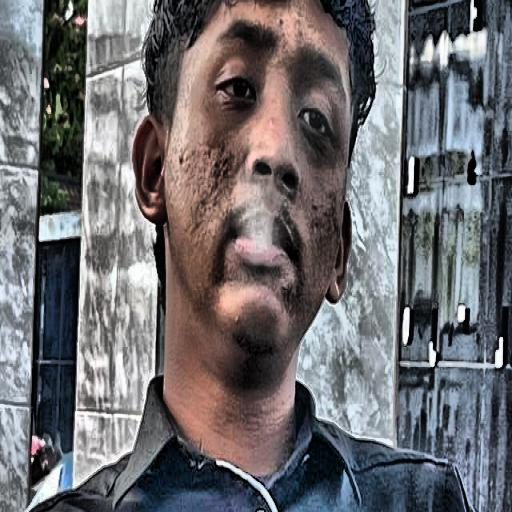Rokok: (0, 0, 473, 512)
